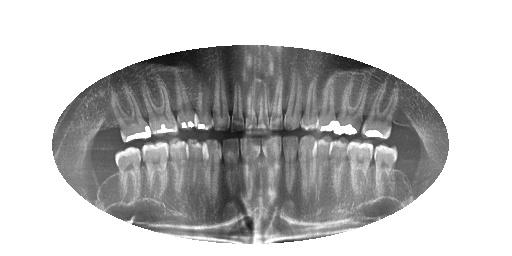i10healthy: (219, 134, 242, 199)
i11healthy: (200, 133, 225, 200)
i12decay: (183, 128, 209, 201)
i13decay: (166, 132, 194, 199)
i14healthy: (139, 133, 172, 202)
i15healthy: (108, 139, 144, 202)
i2healthy: (371, 138, 400, 201)
i3healthy: (342, 137, 377, 202)
i4healthy: (325, 129, 354, 201)
i5healthy: (309, 133, 336, 205)
i6healthy: (295, 130, 325, 210)
i7healthy: (280, 130, 301, 207)
i8healthy: (260, 128, 284, 207)
i9healthy: (237, 131, 264, 206)
u10healthy: (228, 76, 249, 137)
u11healthy: (211, 65, 234, 134)
u12healthy: (189, 72, 216, 134)
u13healthy: (170, 69, 201, 133)
u14healthy: (137, 75, 182, 136)
u15healthy: (105, 87, 154, 148)
u2healthy: (357, 76, 401, 142)
u3healthy: (335, 67, 368, 139)
u4healthy: (315, 74, 340, 136)
u5healthy: (297, 71, 323, 135)
u6healthy: (281, 68, 304, 133)
u7healthy: (265, 70, 288, 133)
u8healthy: (255, 76, 273, 138)
u9healthy: (242, 74, 259, 140)
